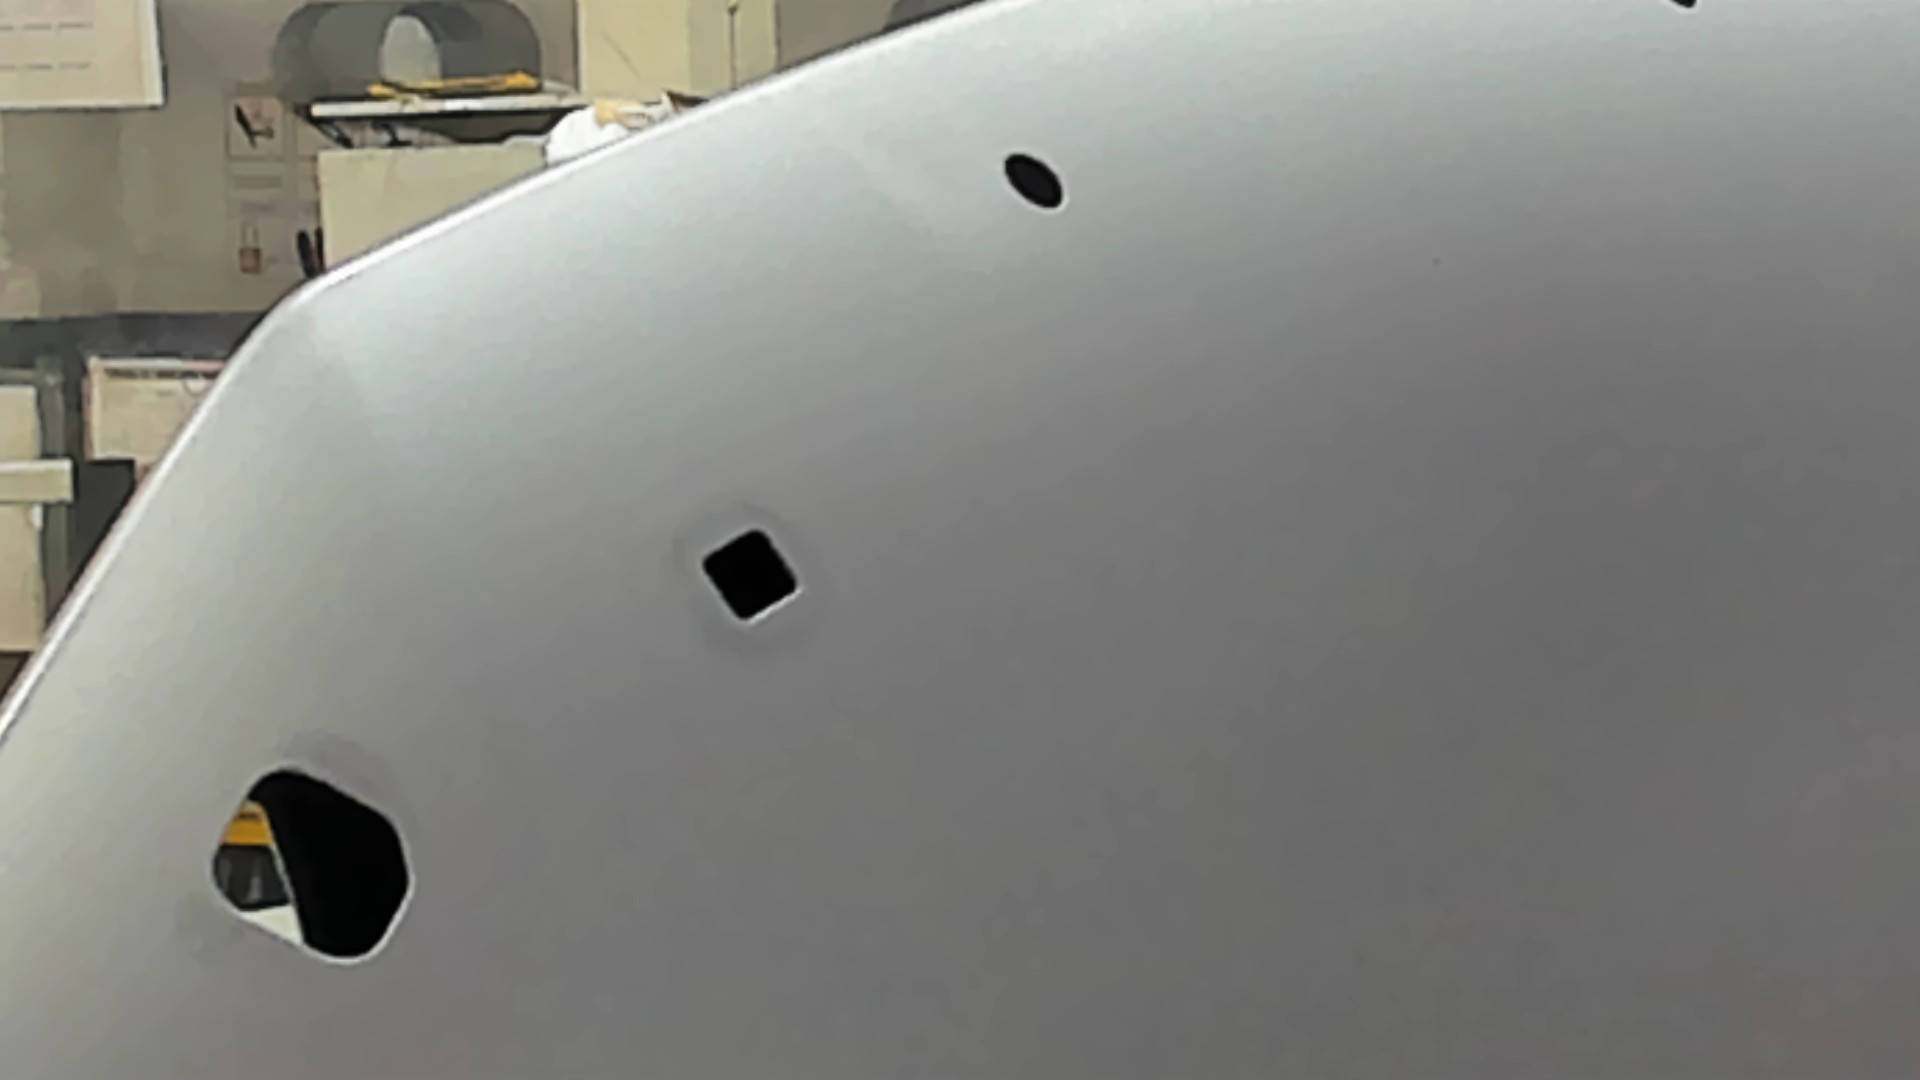Agujero: (702, 526, 804, 626), (1001, 150, 1067, 214)
Agujerote: (208, 766, 415, 965)
